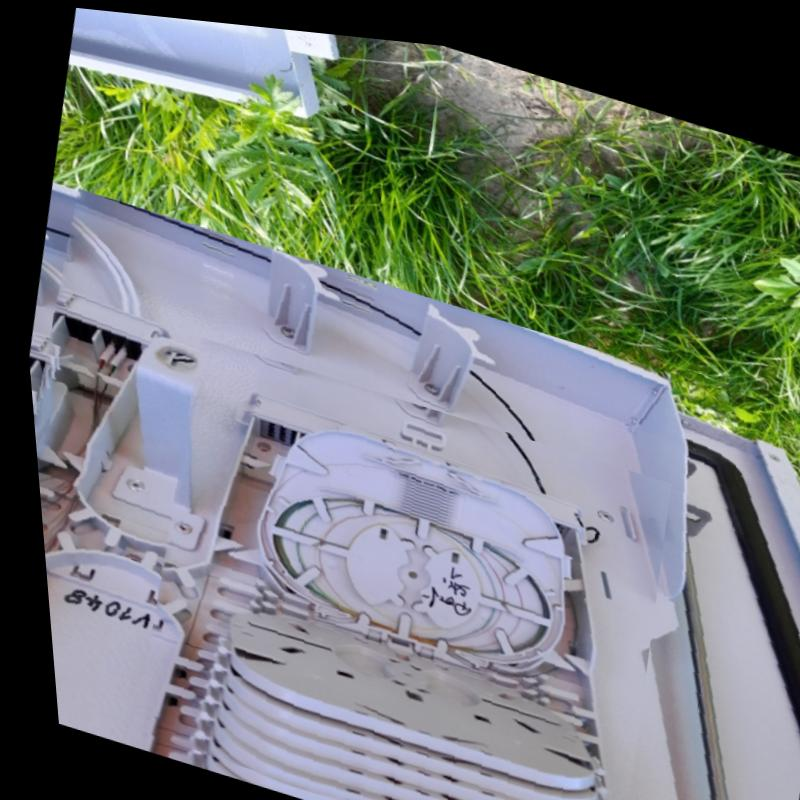NT-Gehause: (27, 191, 800, 800)
Spleiskassetten: (126, 345, 617, 800)
